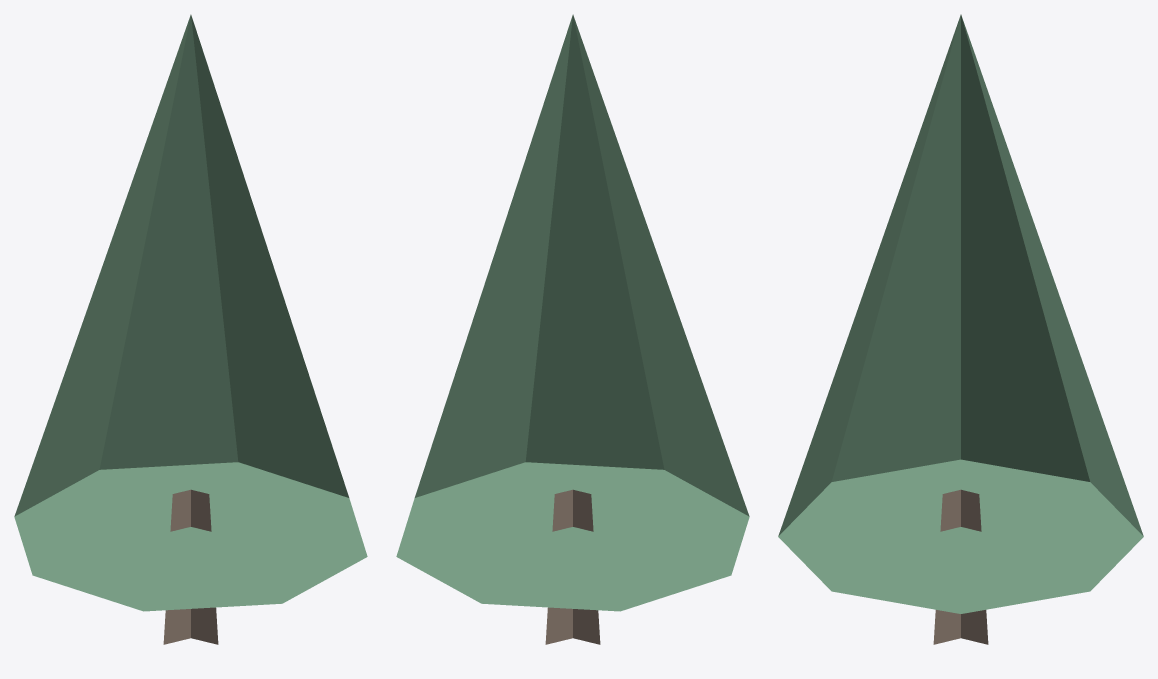
Rendered from tree-conifer.glb.
The picture shows the model from 3 angles, left to right: view 1: azimuth 30°, elevation 25°; view 2: azimuth 150°, elevation 25°; view 3: azimuth 270°, elevation 25°; orthographic projection.
Parts seen in each view (by area): view 1: tree-conifer; view 2: tree-conifer; view 3: tree-conifer.
Part boxes in pixels (left/top/right/bottom): tree-conifer: left=14, top=14, right=367, bottom=644; tree-conifer: left=396, top=14, right=749, bottom=644; tree-conifer: left=778, top=14, right=1143, bottom=644.
Size of the model in its own units: 0.52 by 1 by 0.52.
